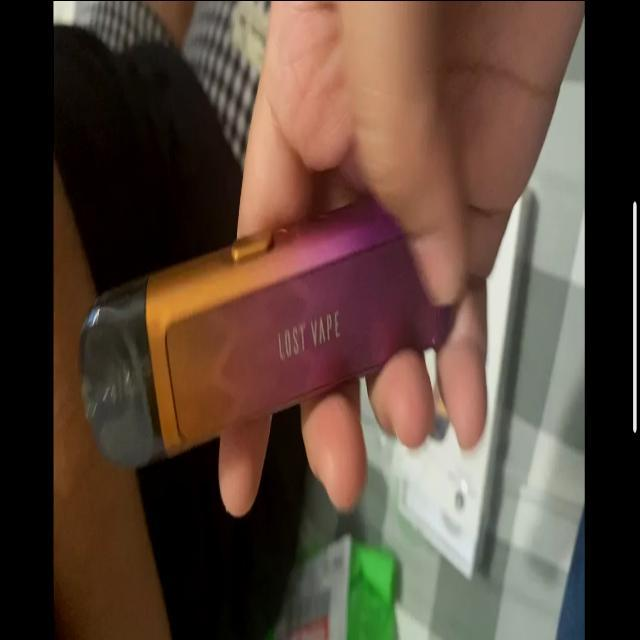Hazard: (79, 190, 428, 472)
